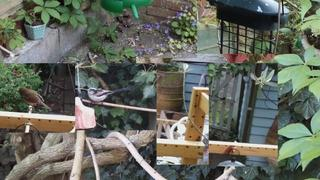long tailed tit: (86, 87, 133, 105)
robin: (17, 87, 51, 110)
